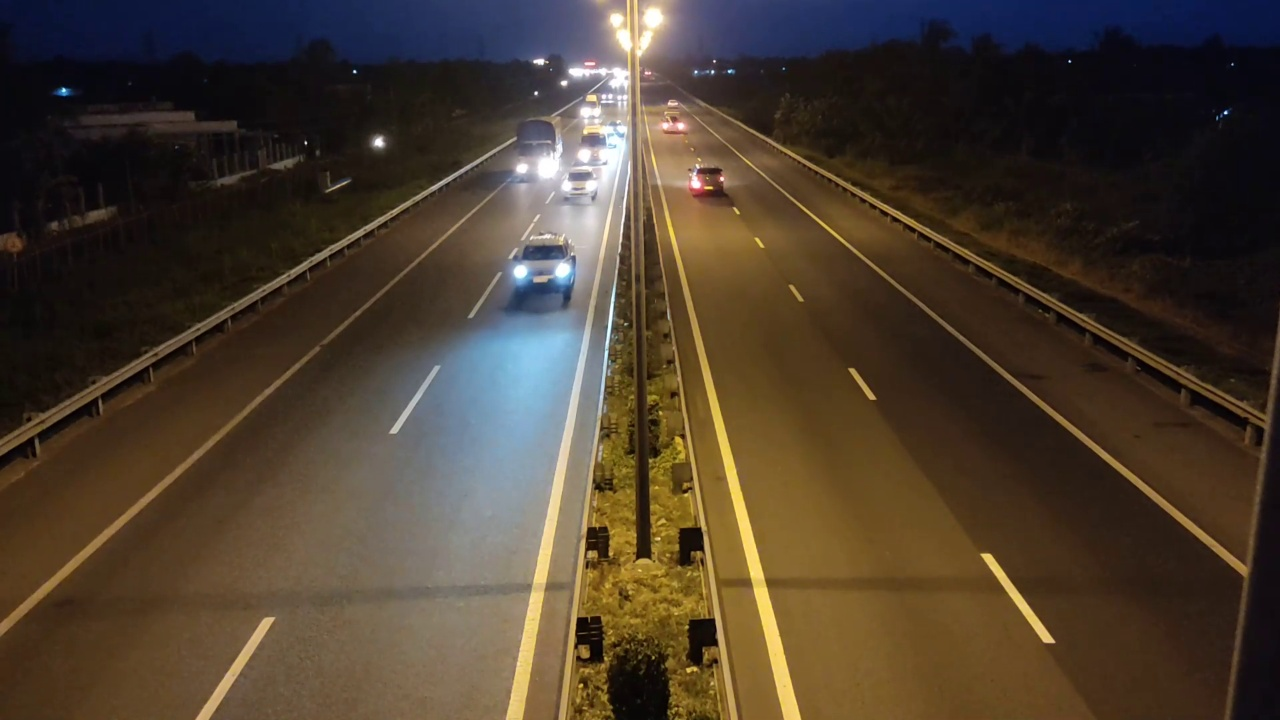car: (505, 233, 579, 311), (561, 167, 601, 204), (687, 165, 727, 197)
